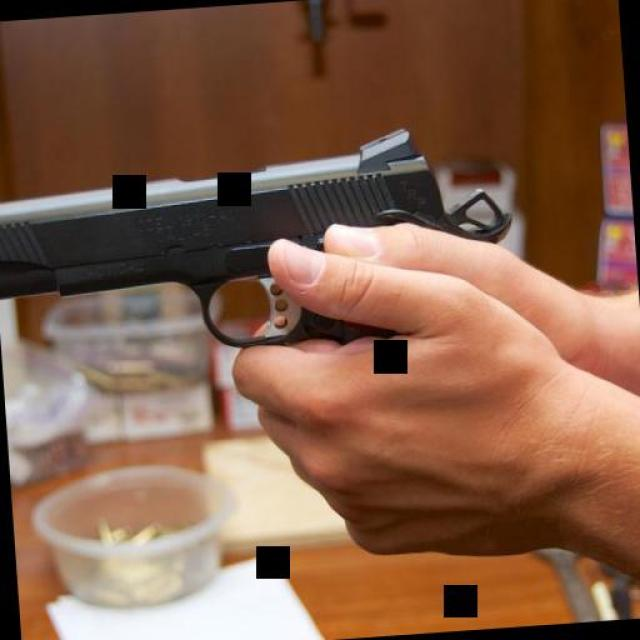gun: (0, 120, 529, 381)
